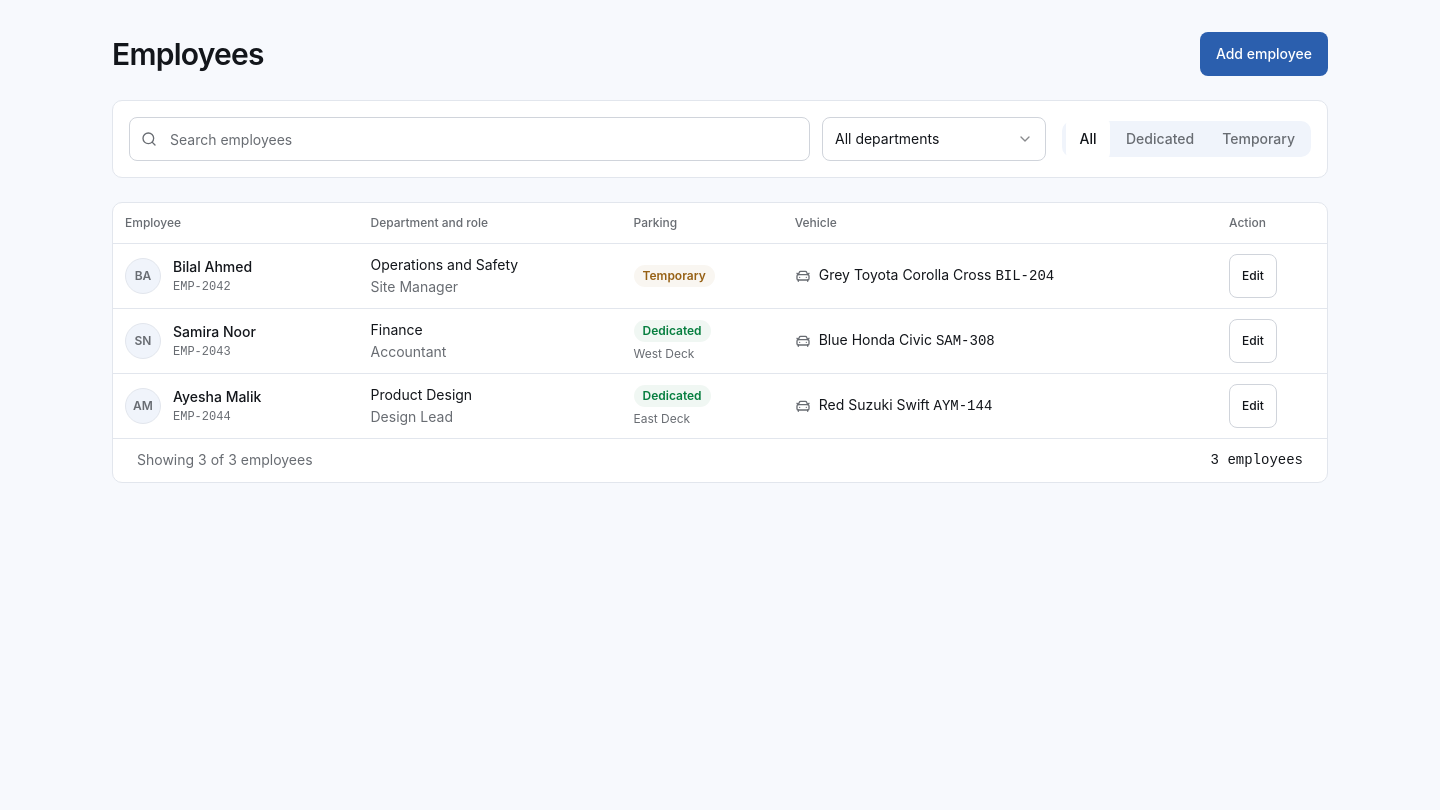
Test: parking administration acceptance › AC_21_1_DisplaysEmployeeAssignmentsAndEmployeeVehicleAssignmentForms
Expected: the text "Bilal Ahmed" is shown, [173,256,252,276]
Expected: the text "Operations and Safety" is shown, [370,256,518,272]
What coordinates should you click on to do the following:
click the button "Add employee"
I would click on:
 (1264, 54)
Its box is [1200,32,1328,76].
(page scrolled)
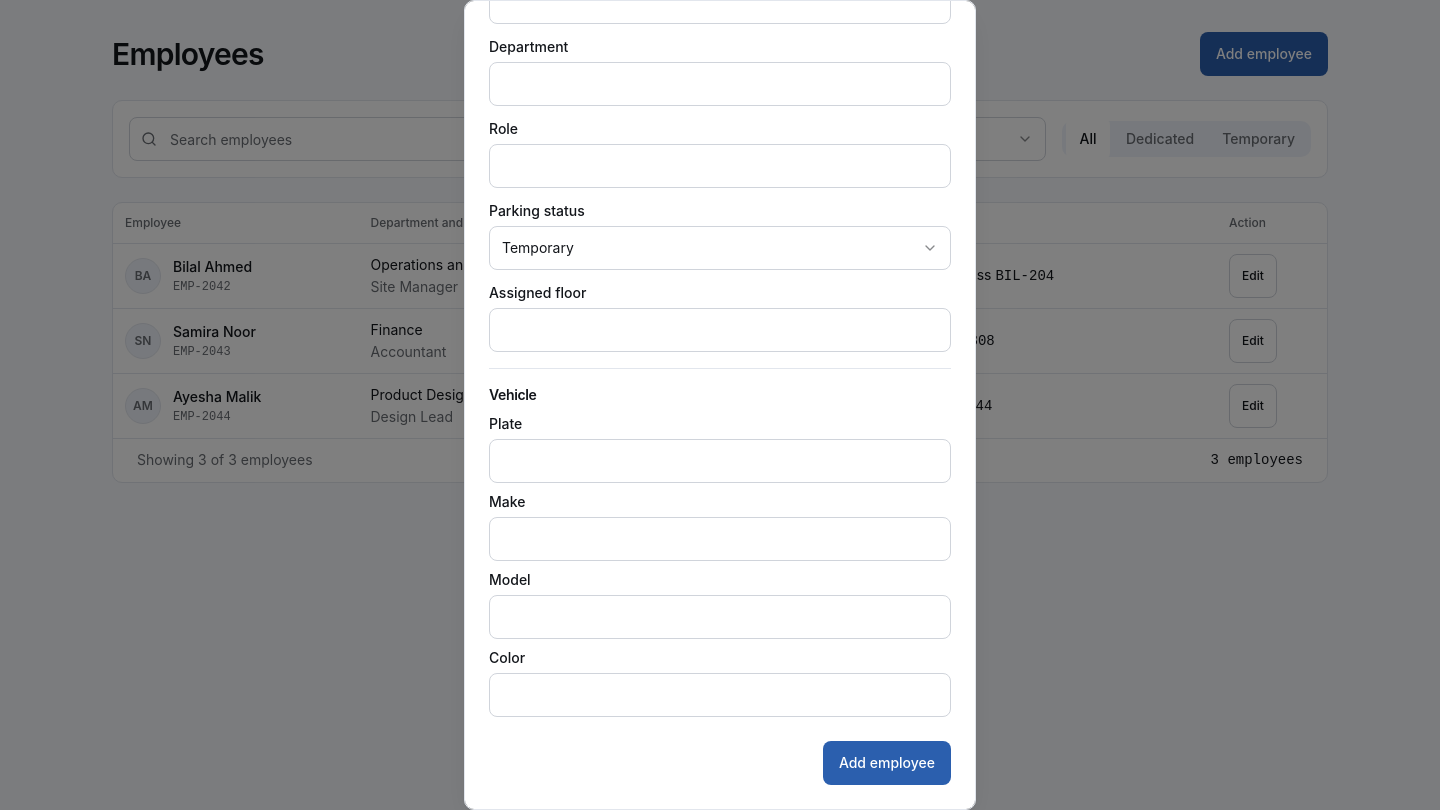
Expected: the field labelled "Role" is shown, [489,144,951,188]
